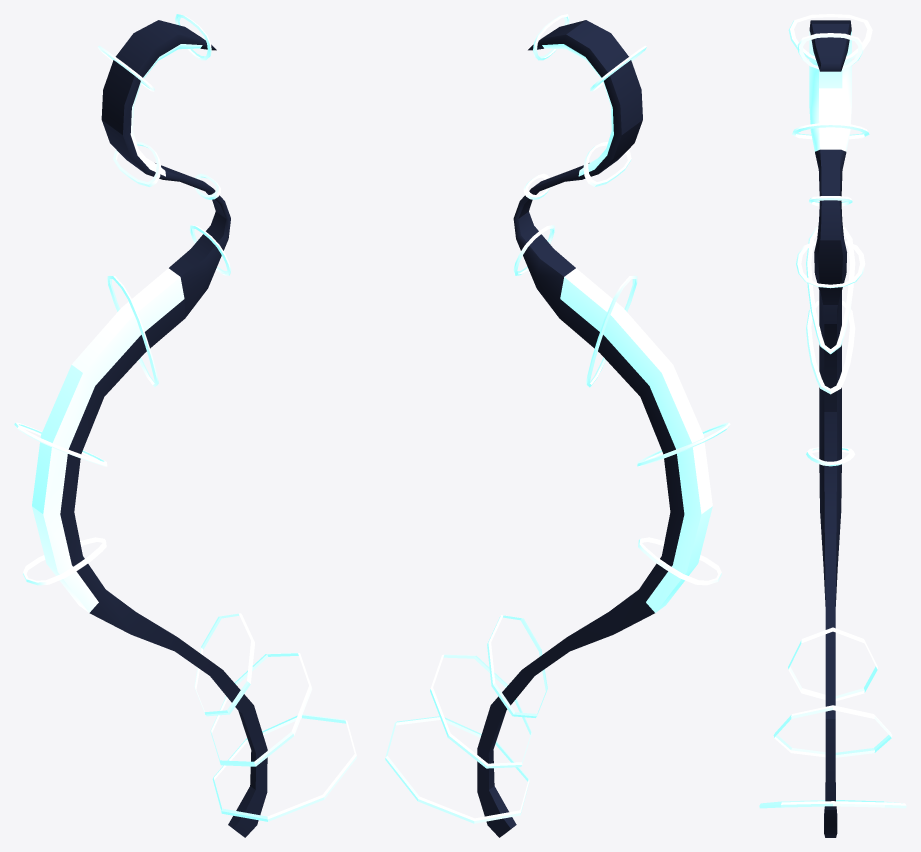
File: Lamp_Street_00.fbx
3 renders of one model, left to right at view 1: azimuth 30°, elevation 25°; view 2: azimuth 150°, elevation 25°; view 3: azimuth 270°, elevation 25°, orthographic. The views are drawn at different scales.
Visible parts, largest first — view 1: Lamp_Street_00; view 2: Lamp_Street_00; view 3: Lamp_Street_00.
Boxes of the visible parts, <box> form: Lamp_Street_00: <box>14,14,356,837</box>; Lamp_Street_00: <box>385,14,730,837</box>; Lamp_Street_00: <box>759,14,906,837</box>.
Size of the model in its own units: 960 by 2295 by 392.
